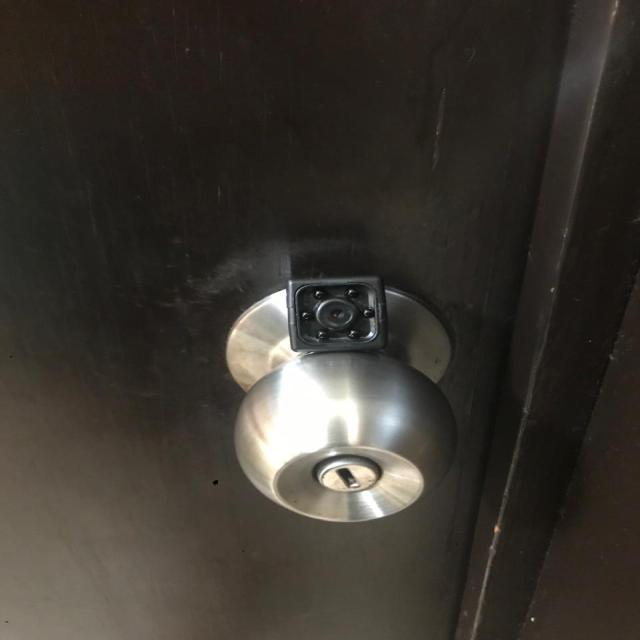hidden camera: (319, 301, 355, 330)
